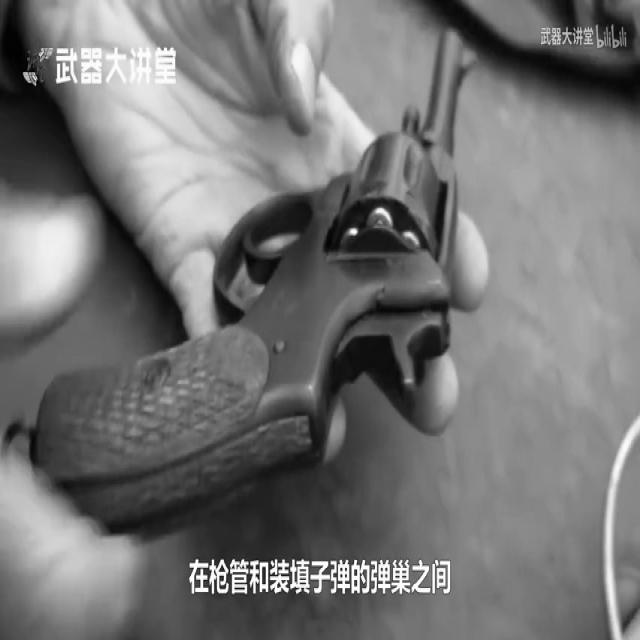Short-Gun: (0, 18, 492, 596)
